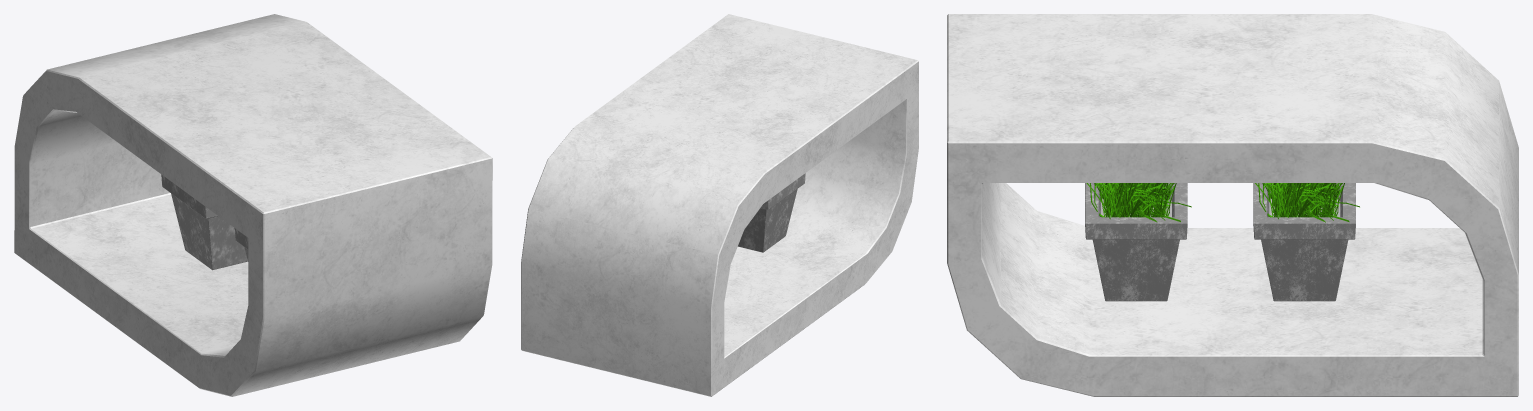
The model's file is Grass VS Polka.fbx.
The picture shows the model from 3 angles, left to right: view 1: azimuth 30°, elevation 25°; view 2: azimuth 150°, elevation 25°; view 3: azimuth 270°, elevation 25°; orthographic projection. The views are drawn at different scales.
Visible parts, largest first — view 1: Cube.001, Cube; view 2: Cube.001, Cube.002; view 3: Cube.001, Cube.002, Cube, Mesh, Mesh.001.
Boxes of the visible parts, x1=… form: Cube.001: x1=14, y1=14, x2=492, y2=396; Cube: x1=161, y1=174, x2=247, y2=270; Cube.001: x1=521, y1=14, x2=918, y2=396; Cube.002: x1=738, y1=173, x2=805, y2=252; Cube.001: x1=947, y1=14, x2=1518, y2=396; Cube.002: x1=1085, y1=183, x2=1187, y2=301; Cube: x1=1253, y1=183, x2=1355, y2=301; Mesh: x1=1255, y1=183, x2=1359, y2=222; Mesh.001: x1=1086, y1=183, x2=1191, y2=222.
Bounding box in the file's own units: 534 × 496 × 1005.
